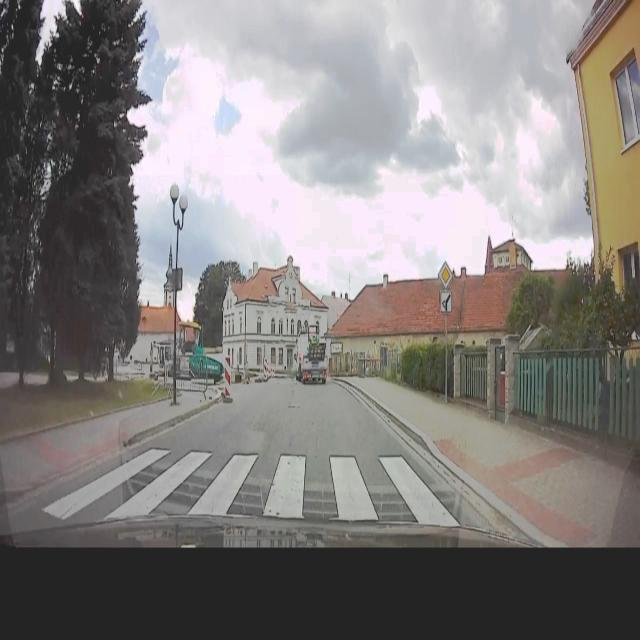Priority road: (438, 258, 454, 291)
